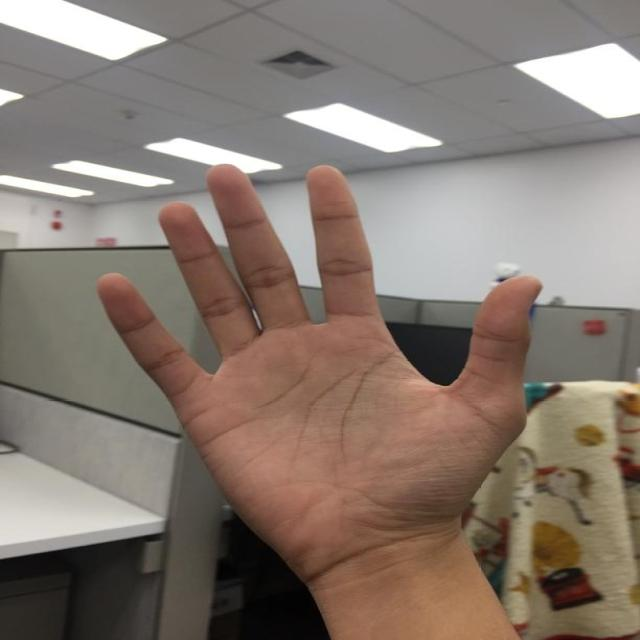hand: (93, 164, 545, 543)
